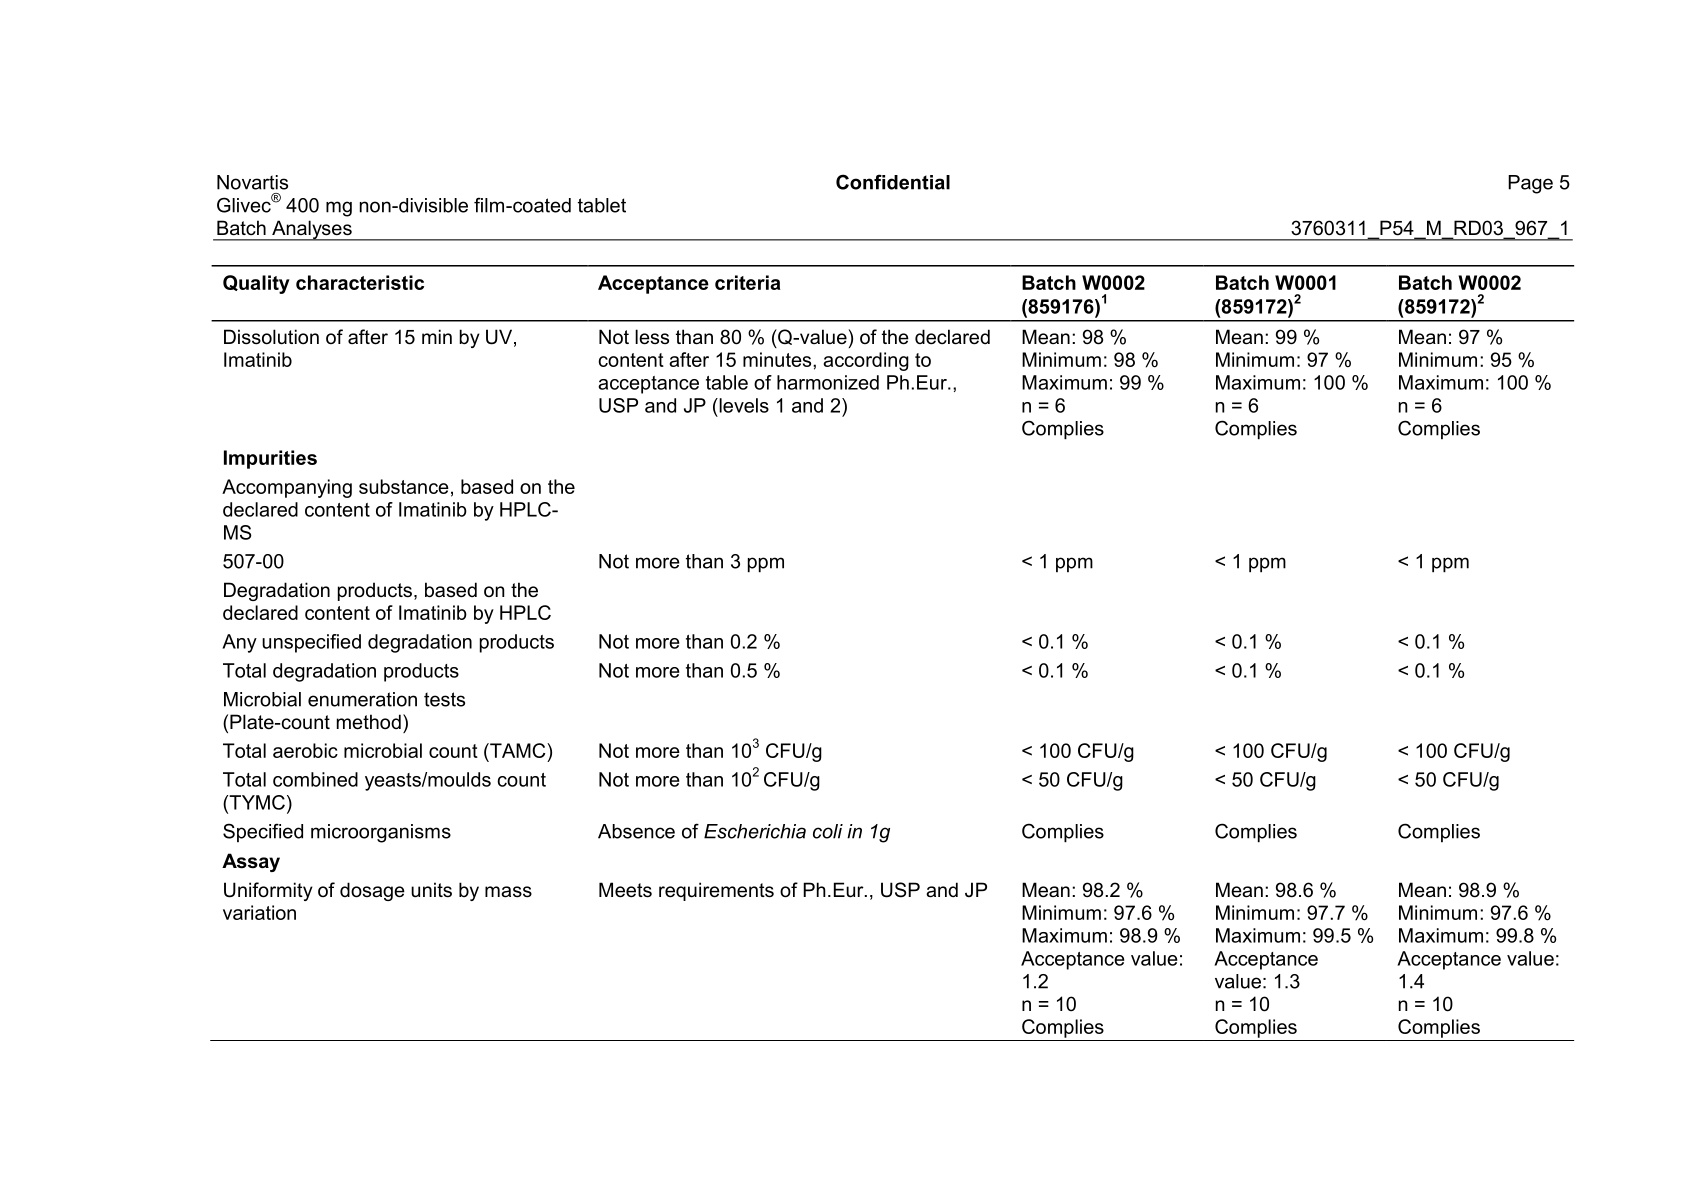partial_lined: (213, 262, 1577, 1045)
